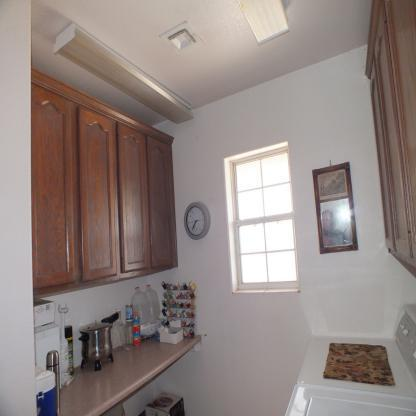Picture-frame: (313, 161, 361, 256)
